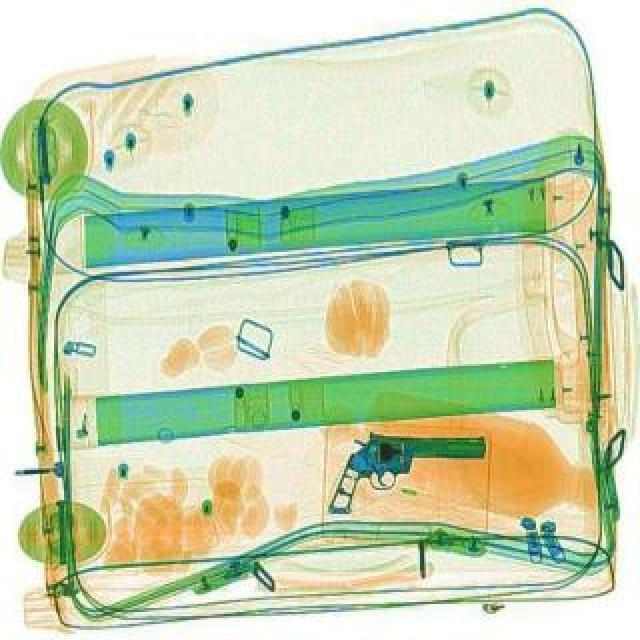gun: (322, 422, 498, 512)
